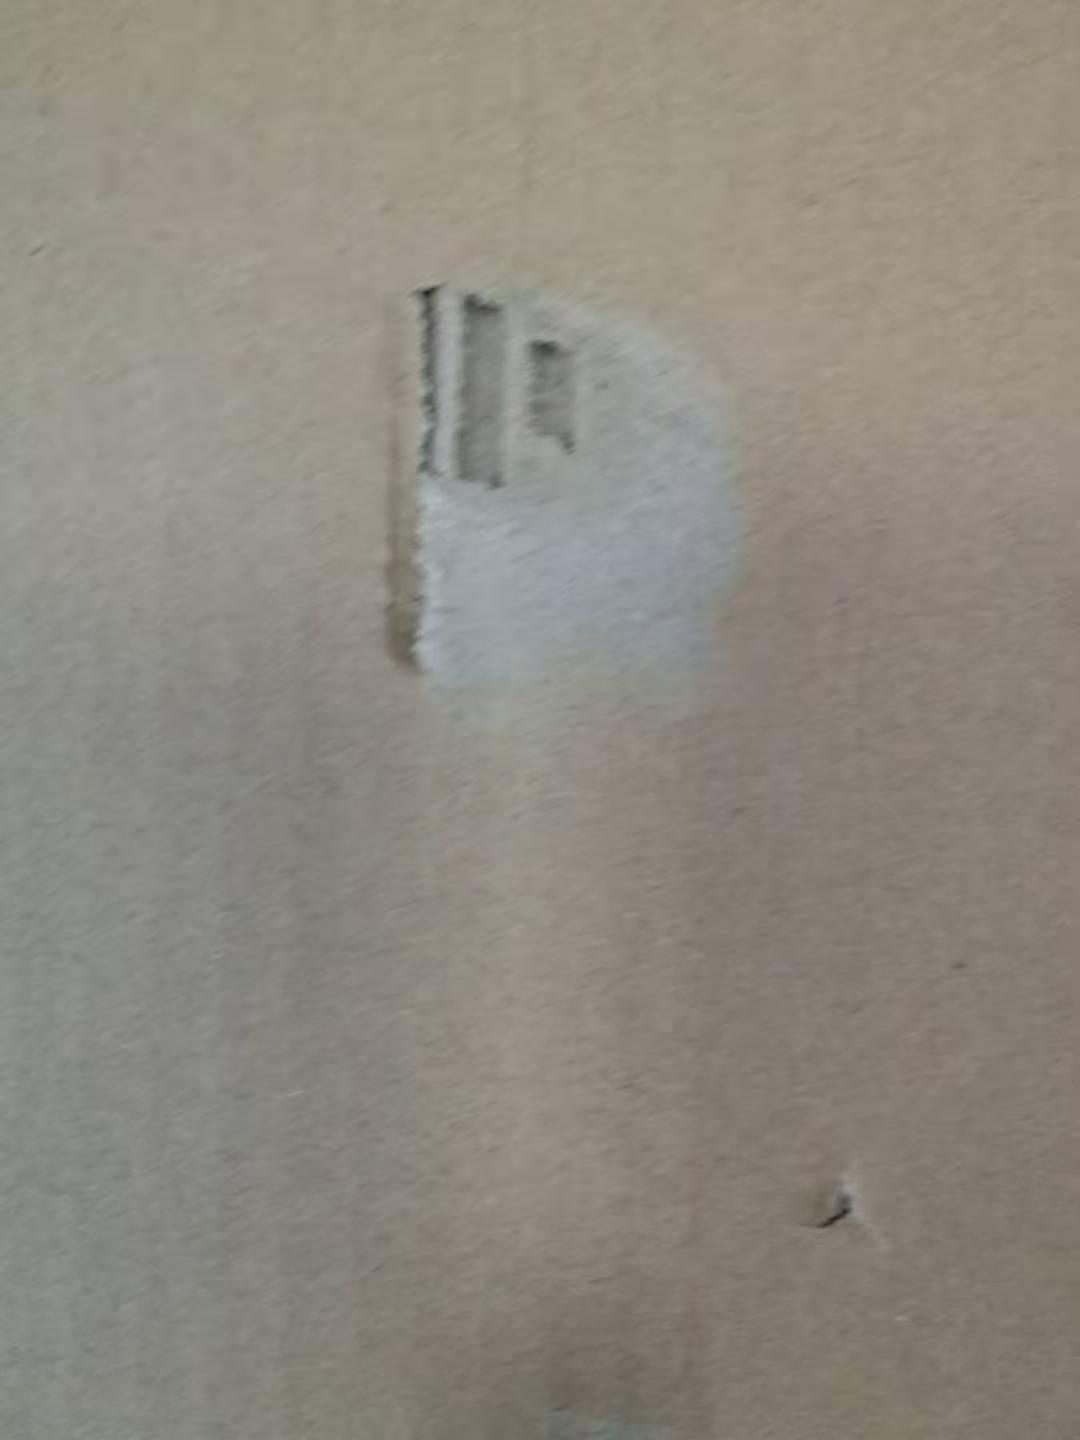defect: (339, 252, 788, 727), (763, 1136, 902, 1268)
